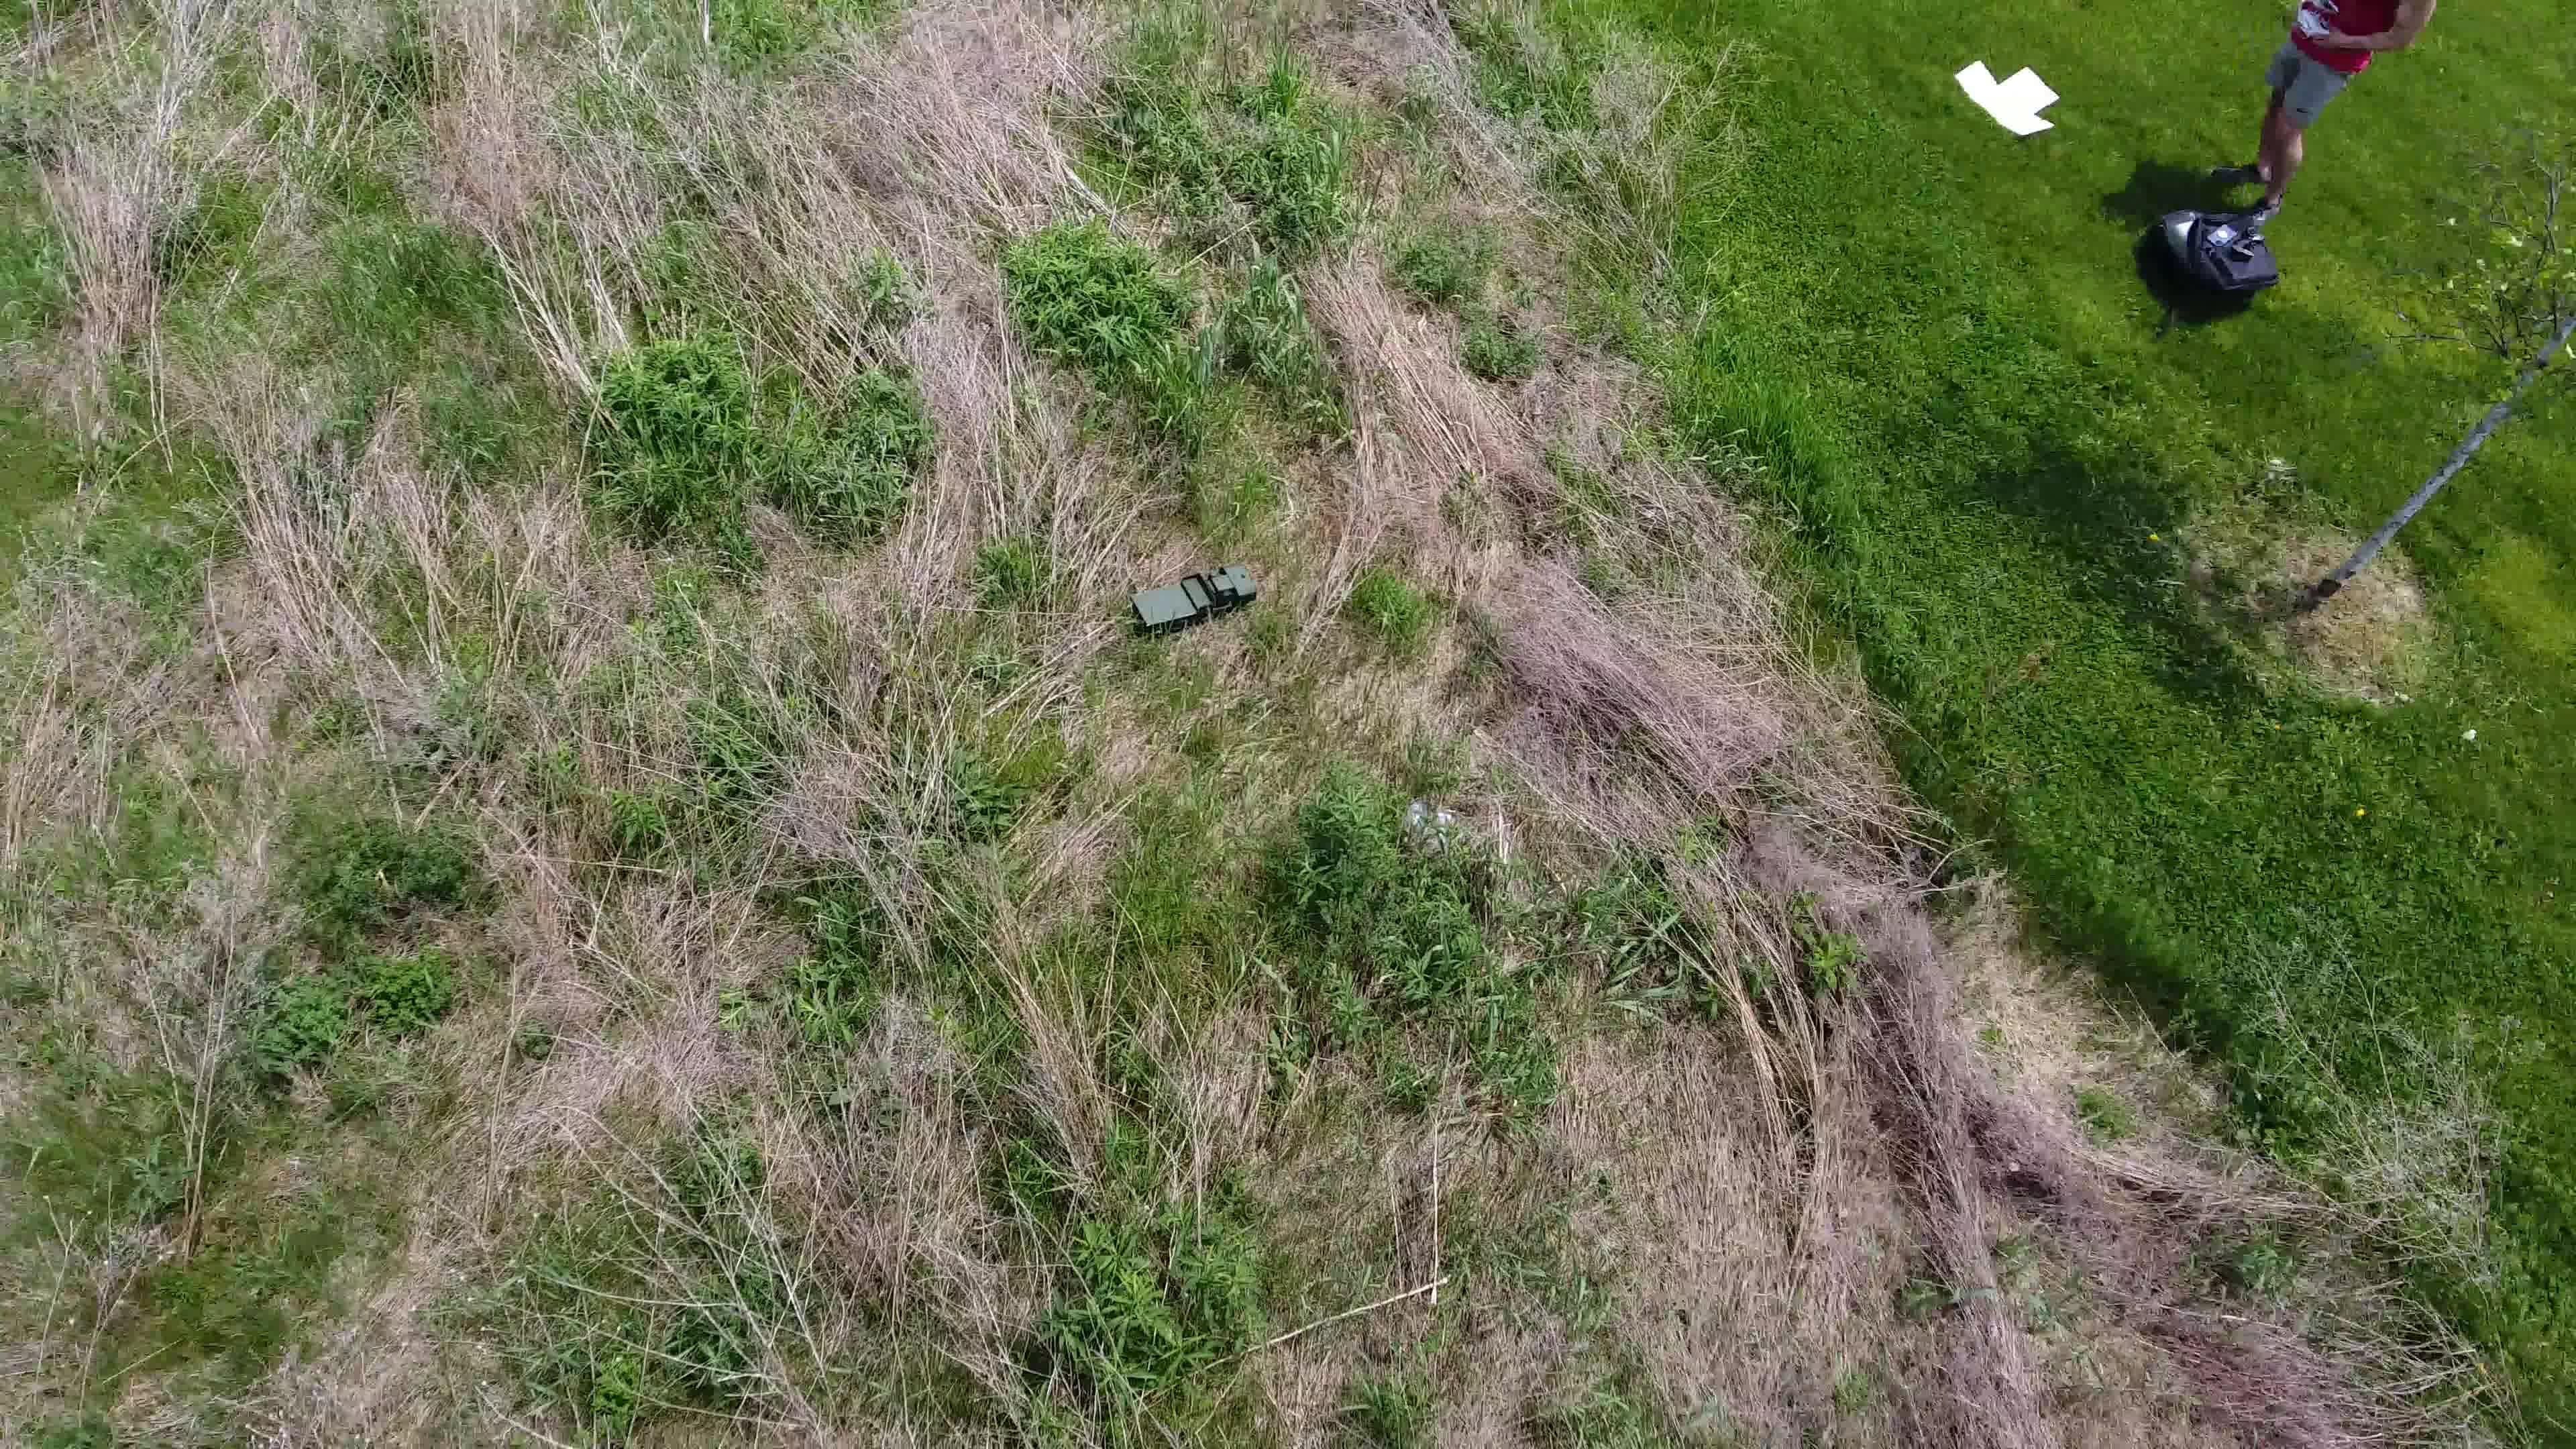transporter9: (1127, 561, 1261, 635)
